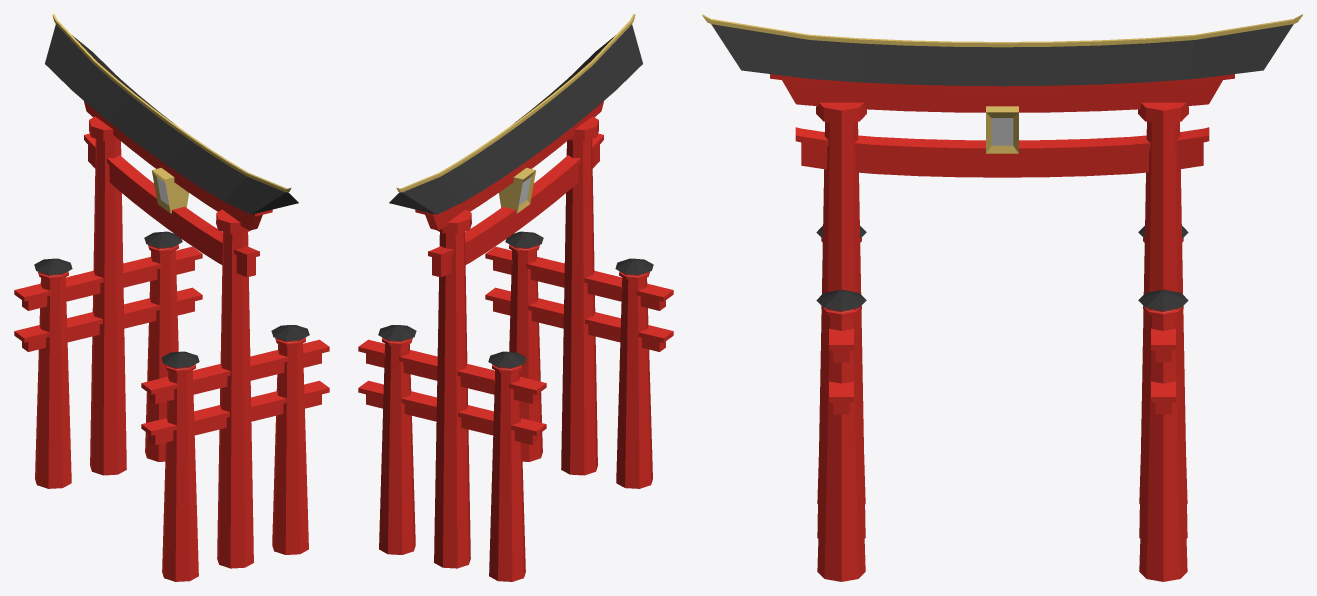
File: Torii Door.fbx
3 renders of one model, left to right at view 1: azimuth 30°, elevation 25°; view 2: azimuth 150°, elevation 25°; view 3: azimuth 270°, elevation 25°, orthographic. The views are drawn at different scales.
Visible parts, largest first — view 1: Cylinder.001, Cylinder, Cube.002, Cube, Cube.001, Cube.008; view 2: Cylinder.001, Cylinder, Cube.002, Cube, Cube.001, Cube.008; view 3: Cube.002, Cylinder.001, Cylinder, Cube.001, Cube, Cube.008.
Part boxes in pixels (x1=…): Cylinder.001: x1=34, y1=231, x2=309, y2=581; Cylinder: x1=89, y1=116, x2=253, y2=568; Cube.002: x1=45, y1=14, x2=298, y2=230; Cube: x1=14, y1=246, x2=329, y2=444; Cube.001: x1=84, y1=133, x2=259, y2=277; Cube.008: x1=152, y1=167, x2=188, y2=213; Cylinder.001: x1=378, y1=231, x2=653, y2=581; Cylinder: x1=434, y1=116, x2=598, y2=568; Cube.002: x1=389, y1=14, x2=642, y2=230; Cube: x1=358, y1=246, x2=673, y2=444; Cube.001: x1=428, y1=133, x2=603, y2=277; Cube.008: x1=499, y1=167, x2=535, y2=213; Cube.002: x1=702, y1=14, x2=1302, y2=112; Cylinder.001: x1=816, y1=226, x2=1188, y2=581; Cylinder: x1=816, y1=102, x2=1188, y2=538; Cube.001: x1=795, y1=127, x2=1209, y2=177; Cube: x1=829, y1=328, x2=1175, y2=414; Cube.008: x1=986, y1=106, x2=1018, y2=153.
Bounding box in the file's own units: 162 × 359 × 373.
